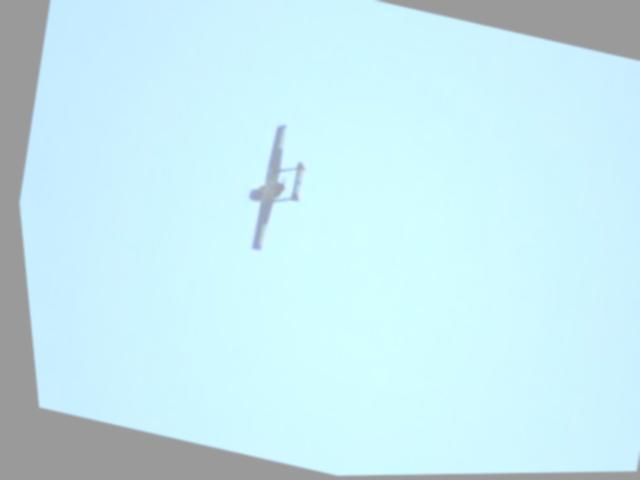uav: (224, 119, 321, 262)
